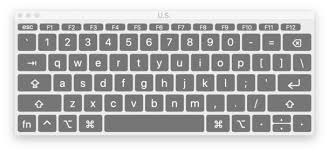keyboard: (11, 13, 314, 134)
